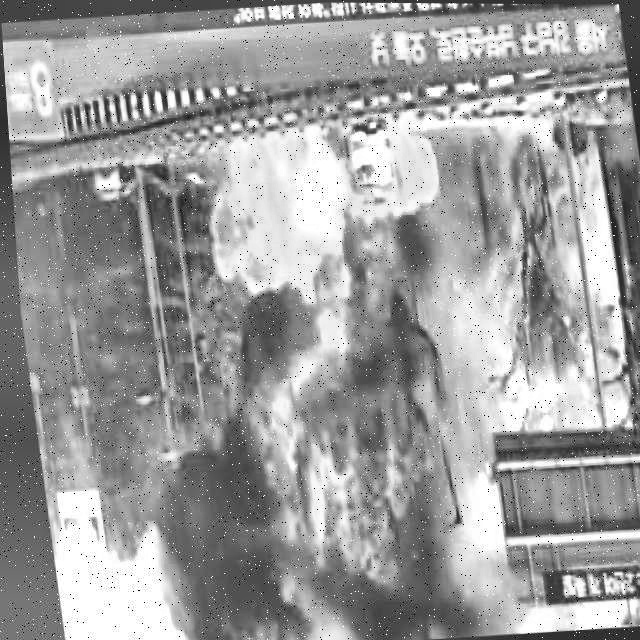Fire: (191, 114, 456, 592), (359, 115, 444, 213), (568, 146, 599, 212)
Smoke: (125, 409, 252, 595), (150, 571, 479, 640)
